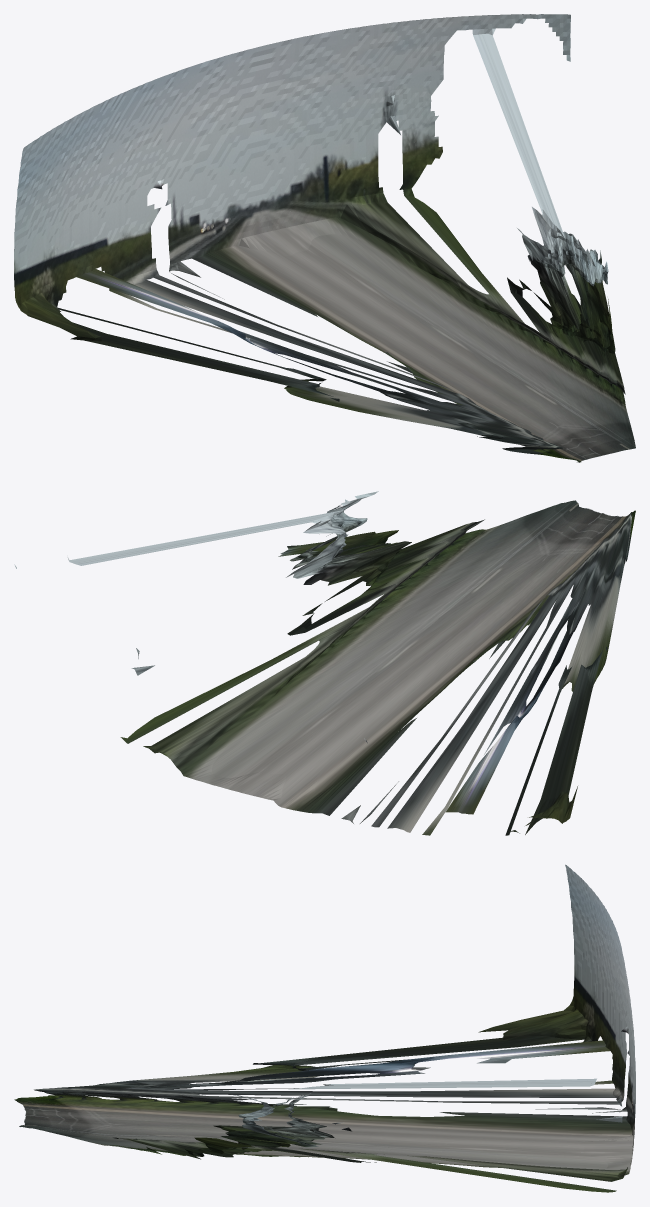
3 renders of one model, top to bottom at view 1: azimuth 30°, elevation 25°; view 2: azimuth 150°, elevation 25°; view 3: azimuth 270°, elevation 25°, orthographic. The views are drawn at different scales.
Visible parts, largest first — view 1: defaultobject; view 2: defaultobject; view 3: defaultobject.
Part boxes in pixels (x1,y1,x2,y2): defaultobject: (14,14,635,462); defaultobject: (14,491,635,835); defaultobject: (14,864,635,1192).
Size of the model in its own units: 41.02 by 14.3 by 45.1.
1 material, 1 textured.
